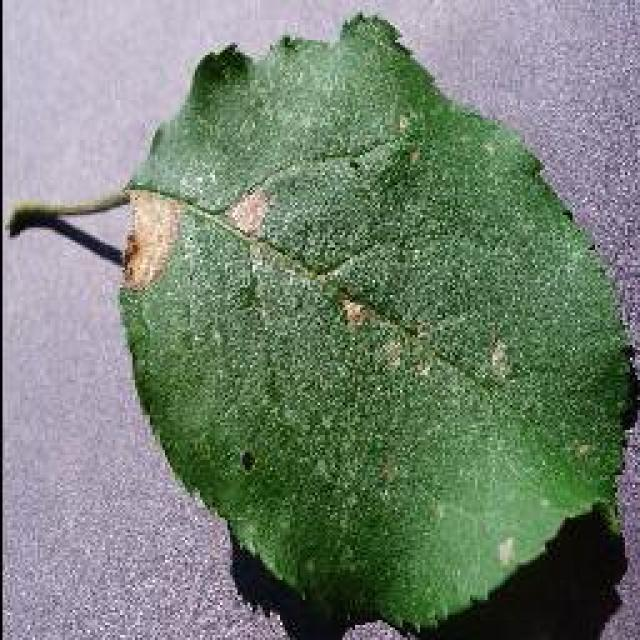black_rot: (125, 192, 196, 314), (237, 186, 278, 243)
